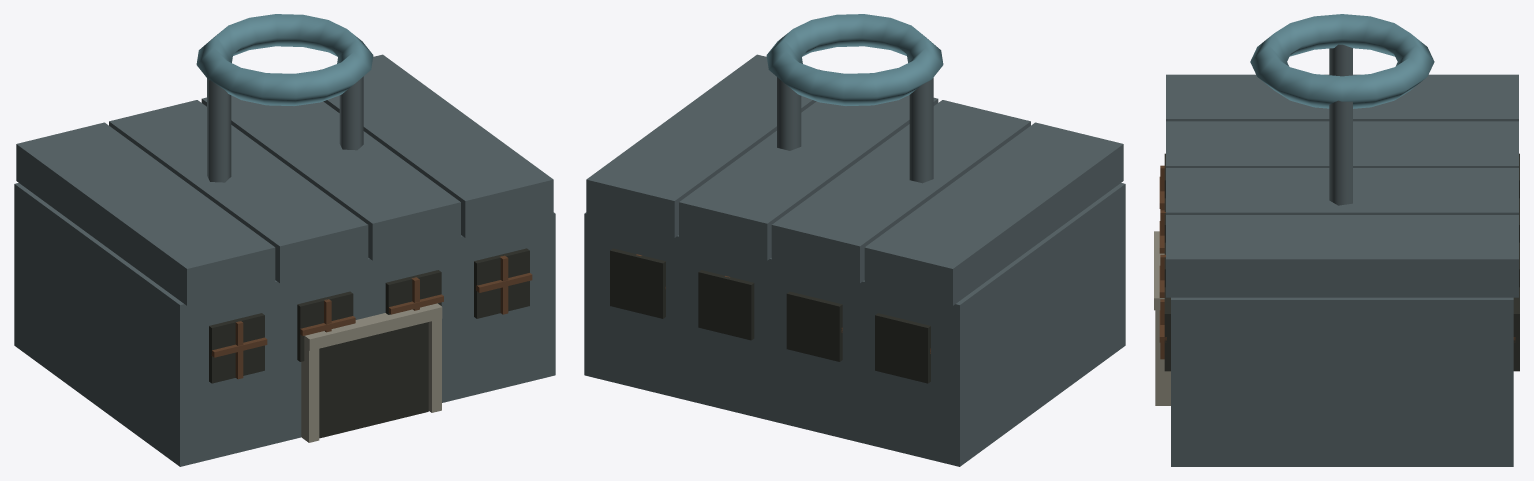
Rendered from custom-imp-robotics.glb.
3 views of the same model, side by side, from view 1: azimuth 30°, elevation 25°; view 2: azimuth 150°, elevation 25°; view 3: azimuth 270°, elevation 25° (orthographic). The views are drawn at different scales.
Visible parts, largest first — view 1: custom-imp-robotics; view 2: custom-imp-robotics; view 3: custom-imp-robotics.
Part boxes in pixels (x1=…): custom-imp-robotics: x1=14, y1=14, x2=555, y2=466; custom-imp-robotics: x1=584, y1=14, x2=1125, y2=466; custom-imp-robotics: x1=1154, y1=14, x2=1519, y2=466.
Bounding box in the file's own units: 1 × 0.8059 × 0.8171.
